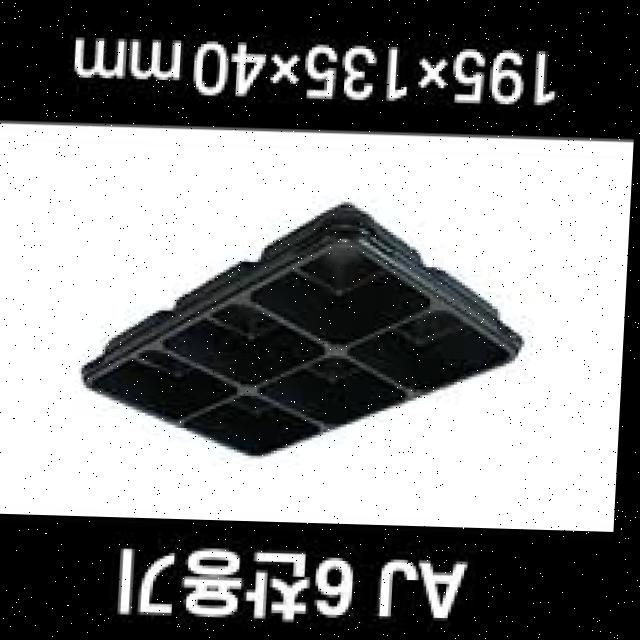disposable: (72, 180, 538, 480)
